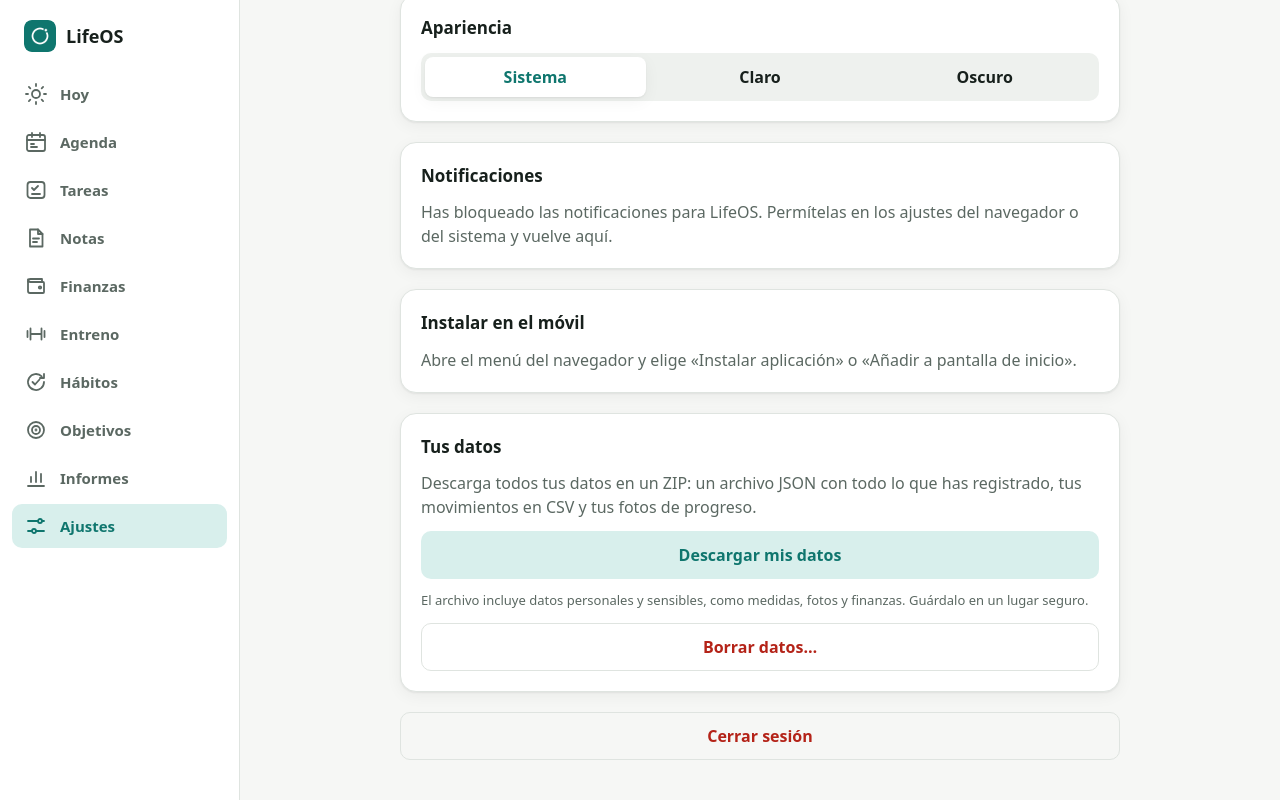
sesión iniciada › cierra sesión y vuelve al login
The image size is (1280, 800).
(page scrolled)
Click the button "Cerrar sesión" at x=760, y=736, box [400,712,1120,760]
(page scrolled)
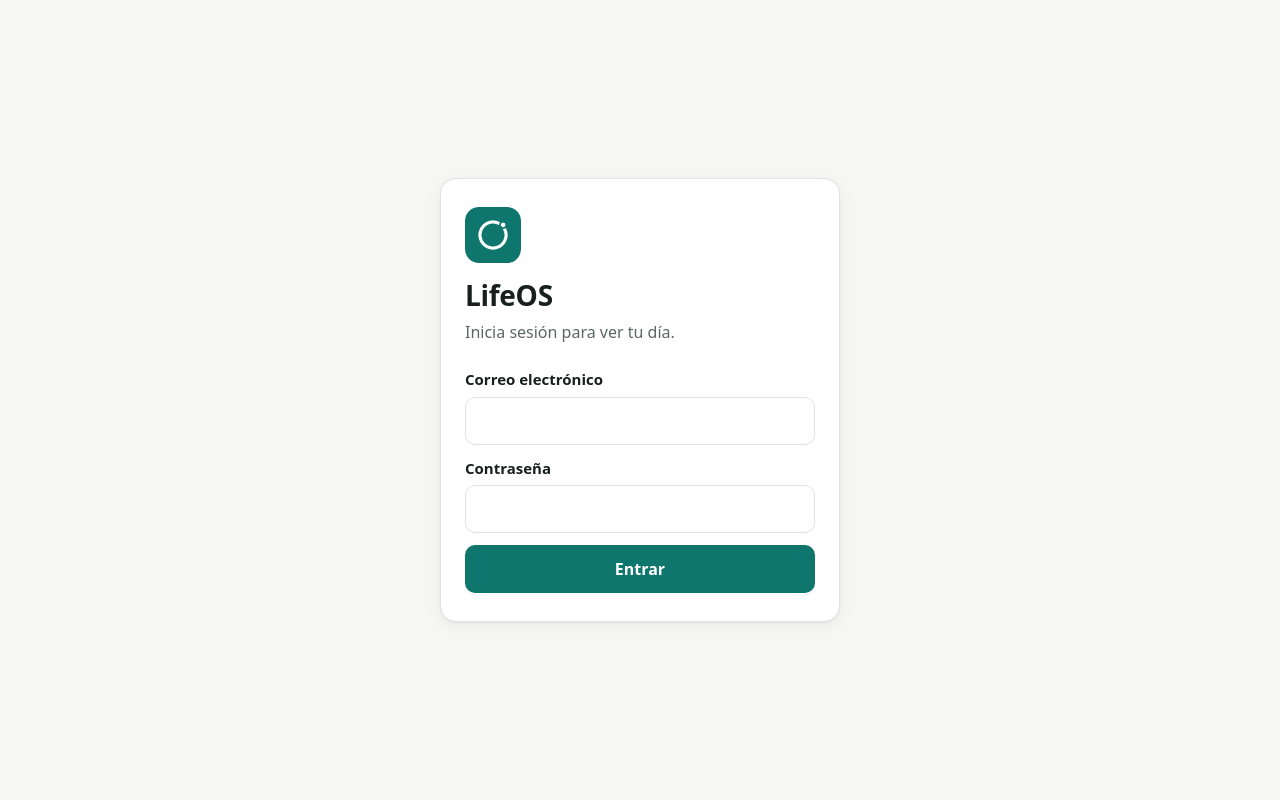
Expected: the button "Entrar" is shown, [465,545,815,593]
